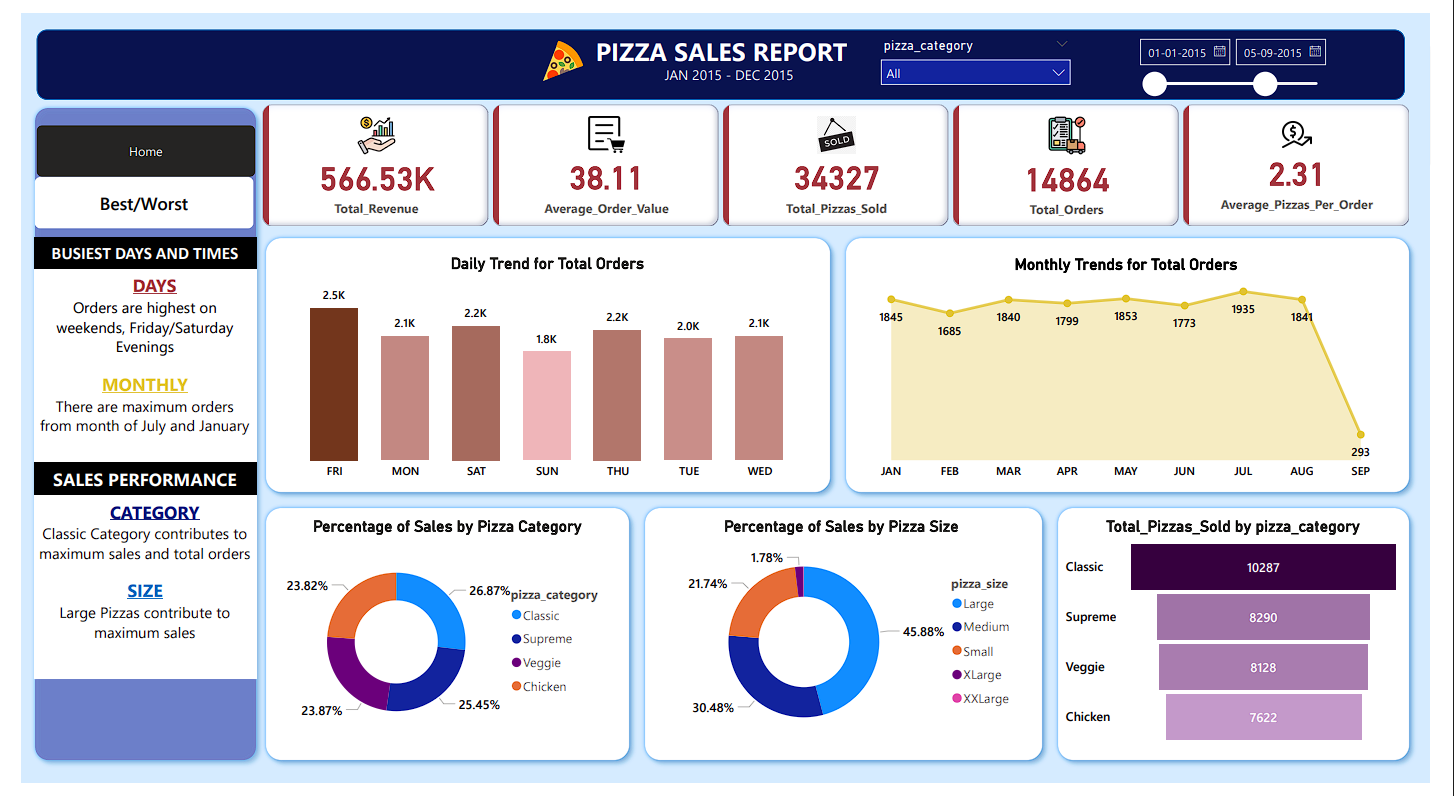

The dashboard page shown, as its layout file describes it:
{"tool":"powerbi","page":{"name":"Home","canvas":[1500,820],"ordinal":0},"visuals":[{"type":"cardVisual","fields":{"Data":["pizza_sales.Total_Revenue","pizza_sales.Average_Order_Value","pizza_sales.Total_Pizzas_Sold","pizza_sales.Total_Orders","pizza_sales.Average_Pizzas_Per_Order"]},"box":[252.1,91.9,1233.9,139.3],"z":0},{"type":"shape","box":[15.6,17,1457.7,75.2],"z":1000},{"type":"textbox","box":[561.2,16.7,369.1,59.9],"z":2000},{"type":"textbox","box":[644.8,50.1,213.1,46],"z":3000},{"type":"image","box":[532,16.7,87.7,66.8],"z":4000},{"type":"shape","box":[252.1,231.2,617,286.9],"z":5000},{"type":"columnChart","title":"Daily Trend for Total Orders","fields":{"Category":["pizza_sales.Order_Day"],"Y":["pizza_sales.Total_Orders"]},"box":[271.6,256.3,576.6,249.3],"z":6000},{"type":"shape","box":[869,231.2,617,286.9],"z":7000},{"type":"areaChart","title":"Monthly Trends for Total Orders","fields":{"Category":["pizza_sales.Order Month"],"Y":["pizza_sales.Total_Orders"]},"box":[896.2,256.7,560.1,249.6],"z":8000},{"type":"shape","box":[252.4,517.6,402.7,286.4],"z":9000},{"type":"shape","box":[1094.7,517.6,391.4,286.4],"z":10000},{"type":"shape","box":[5.7,92.2,252.4,711.9],"z":11000},{"type":"shape","box":[655.1,517.6,439.6,286.4],"z":12000},{"type":"donutChart","title":"Percentage of Sales by Pizza Category","fields":{"Category":["pizza_sales.pizza_category"],"Y":["pizza_sales.Total_Revenue"]},"box":[272.3,536,363,248.2],"z":13000},{"type":"donutChart","title":"Percentage of Sales by Pizza Size","fields":{"Category":["pizza_sales.pizza_size"],"Y":["pizza_sales.Total_Revenue"]},"box":[670.7,536,404.1,248.2],"z":14000},{"type":"funnel","fields":{"Y":["pizza_sales.Total_Pizzas_Sold"],"Category":["pizza_sales.pizza_category"]},"box":[1107.5,536,365.9,248.2],"z":15000},{"type":"textbox","box":[12.8,238.2,236.8,35.5],"z":16000},{"type":"textbox","box":[12.8,272.3,236.8,205.6],"z":17000},{"type":"textbox","box":[12.8,477.9,236.8,35.5],"z":18000},{"type":"textbox","box":[12.8,513.3,236.8,195.7],"z":19000},{"type":"slicer","fields":{"Values":["pizza_sales.pizza_category"]},"box":[904.7,21.3,222.6,59.6],"z":20000},{"type":"slicer","fields":{"Values":["pizza_sales.order_date"]},"box":[1178.4,17,222.6,78],"z":21000},{"type":"pageNavigator","box":[15.6,119.1,234,55.3],"z":22000},{"type":"pageNavigator","box":[14.2,174.4,234,55.3],"z":23000}]}

Visuals, with their boxes in screenshot pixels (x1, y1, x2, y2), scaled from the page's 1500x820 canvas onto the 1454x796 screenshot:
cardVisual - pizza_sales.Total_Revenue x pizza_sales.Average_Order_Value: select_region(244, 89, 1440, 224)
shape: select_region(15, 17, 1428, 90)
textbox: select_region(544, 16, 902, 74)
textbox: select_region(625, 49, 832, 93)
image: select_region(516, 16, 601, 81)
shape: select_region(244, 224, 842, 503)
"Daily Trend for Total Orders" columnChart: select_region(263, 249, 822, 491)
shape: select_region(842, 224, 1440, 503)
"Monthly Trends for Total Orders" areaChart: select_region(869, 249, 1412, 491)
shape: select_region(245, 502, 635, 780)
shape: select_region(1061, 502, 1441, 780)
shape: select_region(6, 90, 250, 781)
shape: select_region(635, 502, 1061, 780)
"Percentage of Sales by Pizza Category" donutChart: select_region(264, 520, 616, 761)
"Percentage of Sales by Pizza Size" donutChart: select_region(650, 520, 1042, 761)
funnel - pizza_sales.Total_Pizzas_Sold x pizza_sales.pizza_category: select_region(1074, 520, 1428, 761)
textbox: select_region(12, 231, 242, 266)
textbox: select_region(12, 264, 242, 464)
textbox: select_region(12, 464, 242, 498)
textbox: select_region(12, 498, 242, 688)
slicer - pizza_sales.pizza_category: select_region(877, 21, 1093, 79)
slicer - pizza_sales.order_date: select_region(1142, 17, 1358, 92)
pageNavigator: select_region(15, 116, 242, 169)
pageNavigator: select_region(14, 169, 241, 223)
